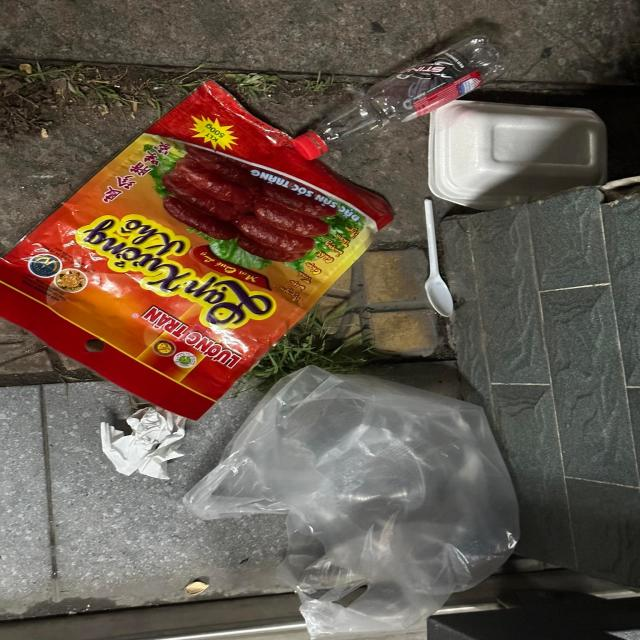bag: (184, 366, 520, 640)
bottle: (293, 35, 509, 159)
foam box: (431, 101, 608, 209)
napkin: (101, 407, 187, 481)
plastic utensil: (423, 199, 457, 323)
snack package: (0, 82, 395, 423)
